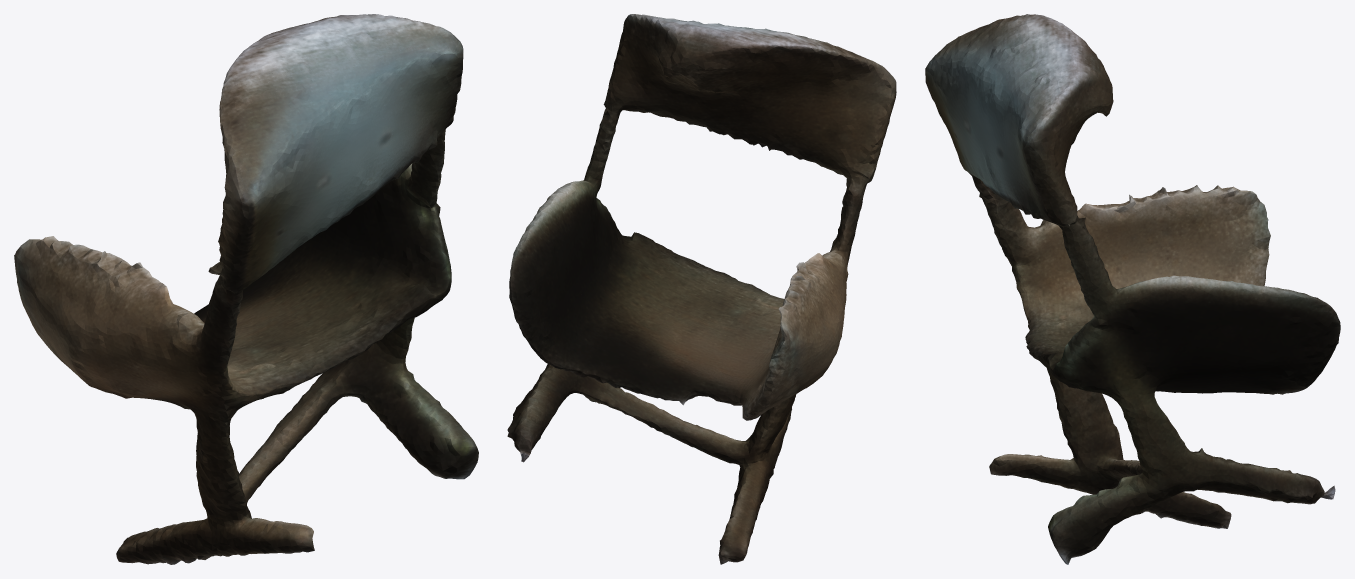
Rendered from IMG_SEG_32.glb.
3 views of the same model, side by side, from view 1: azimuth 30°, elevation 25°; view 2: azimuth 150°, elevation 25°; view 3: azimuth 270°, elevation 25° (orthographic). The views are drawn at different scales.
Size of the model in its own units: 0.6586 by 1 by 0.7271.
Materials: 1 (1 with a texture image).
